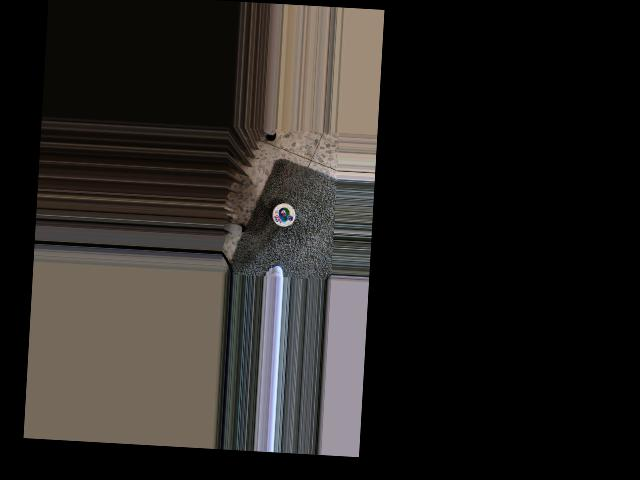cotage: (271, 201, 296, 226)
